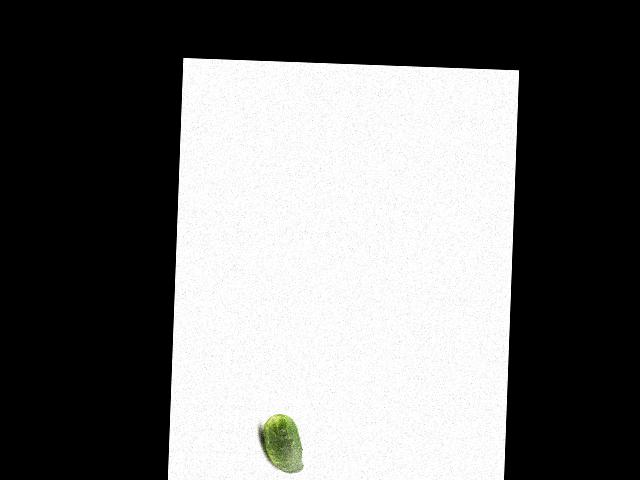cucumber: (261, 413, 305, 473)
